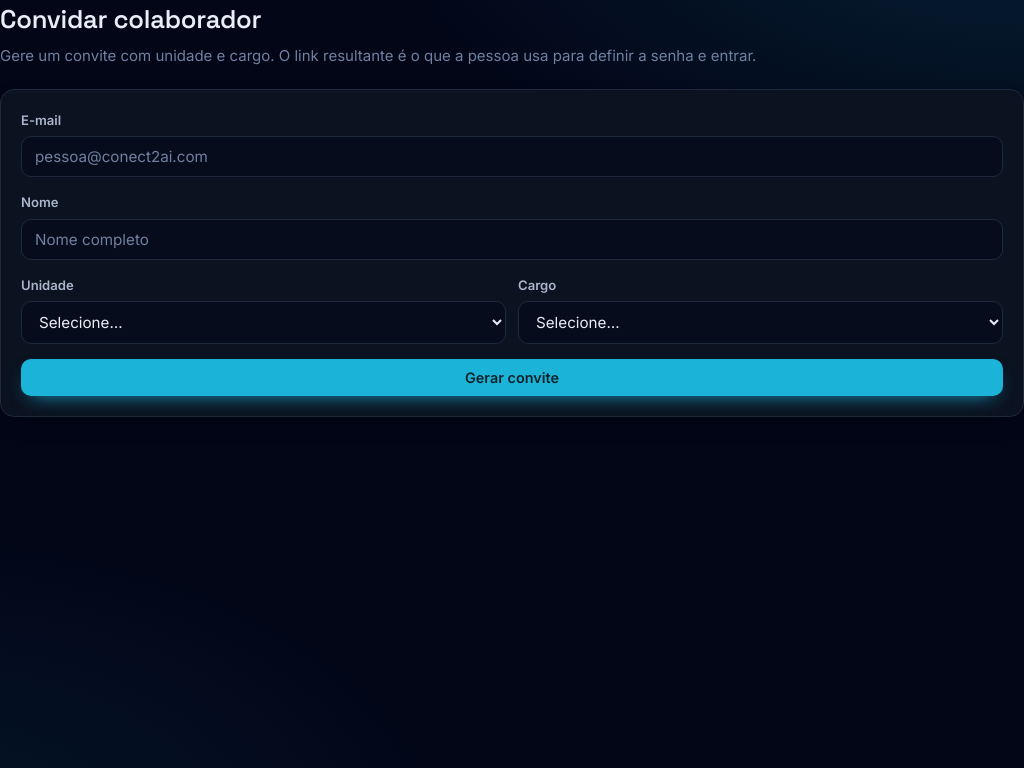
Test: PaginaConvidar › envia POST /auth/convites e exibe o link de aceite gerado
This screenshot has width=1024, height=768.
Type "nova@conect2ai.com" into the field labelled "E-mail" at point(512, 157), box [21,136,1003,177]
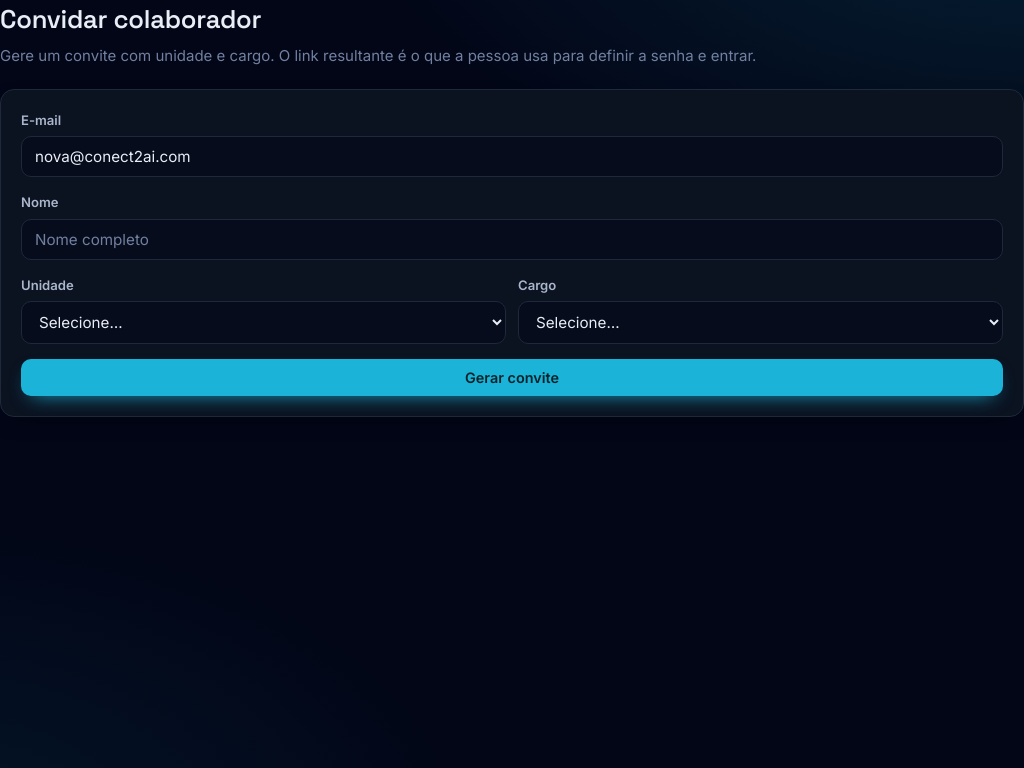
Type "Nova Pessoa" into the field labelled "Nome" at point(512, 239), box [21,219,1003,260]
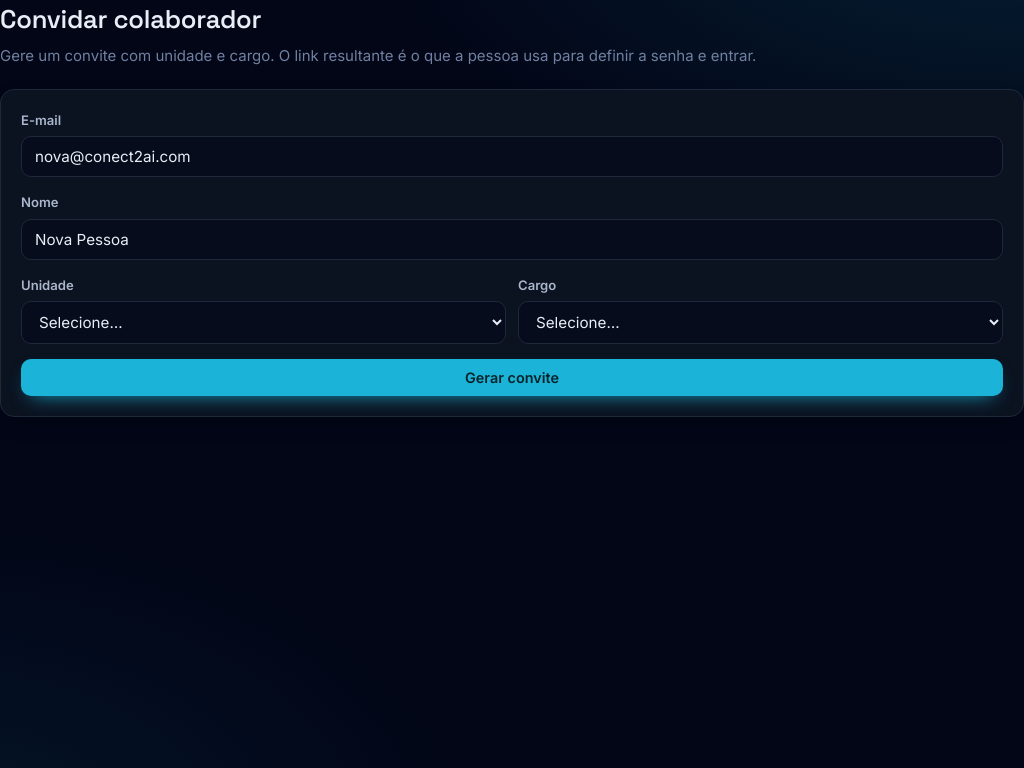
Select "Marketing" in the dropdown labelled "Unidade" at point(264, 322), box [21,301,506,344]
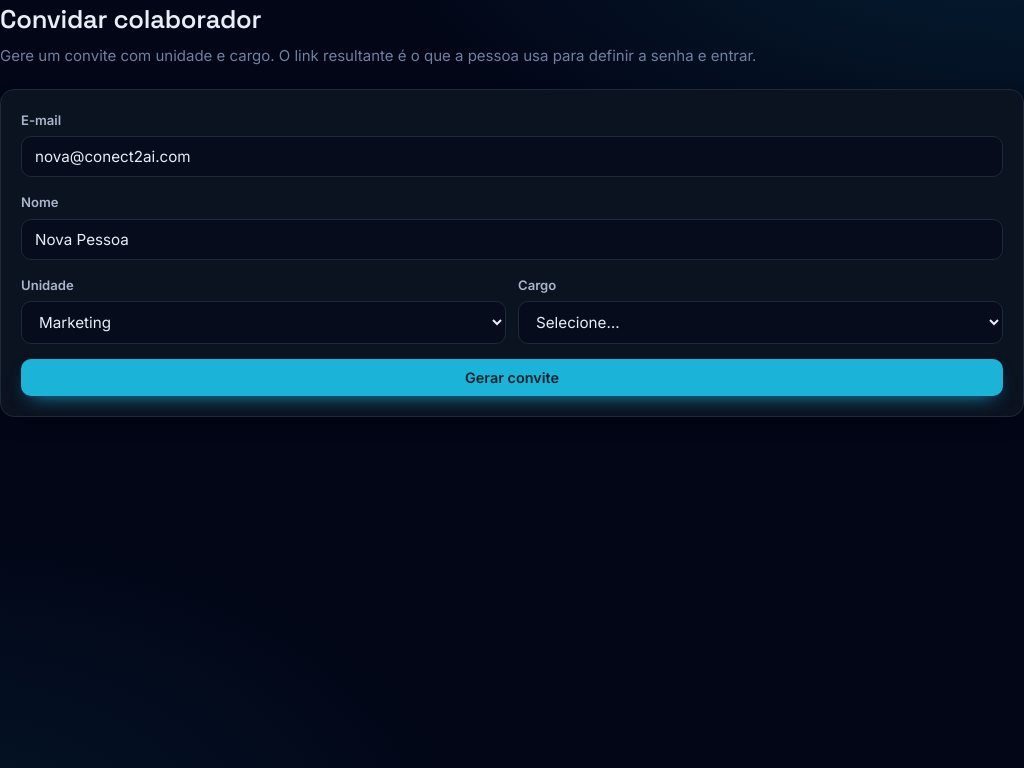
Select "Aluno" in the dropdown labelled "Cargo" at point(760, 322), box [518,301,1003,344]
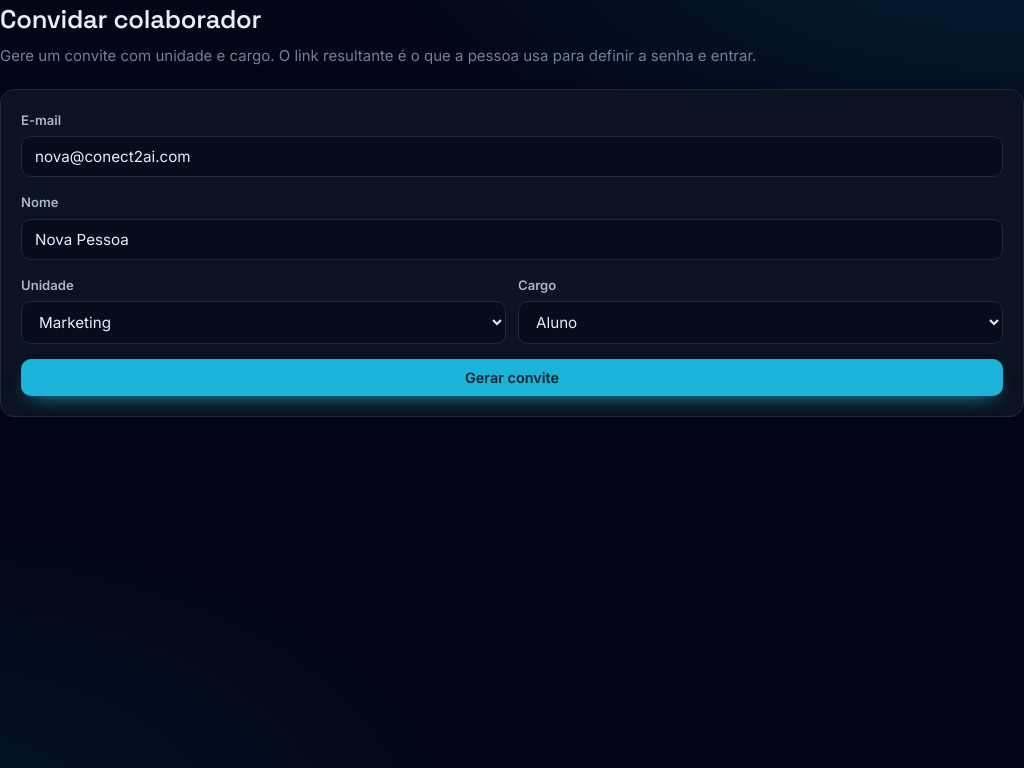
Click the button "Gerar convite" at point(512, 377), box [21,359,1003,396]
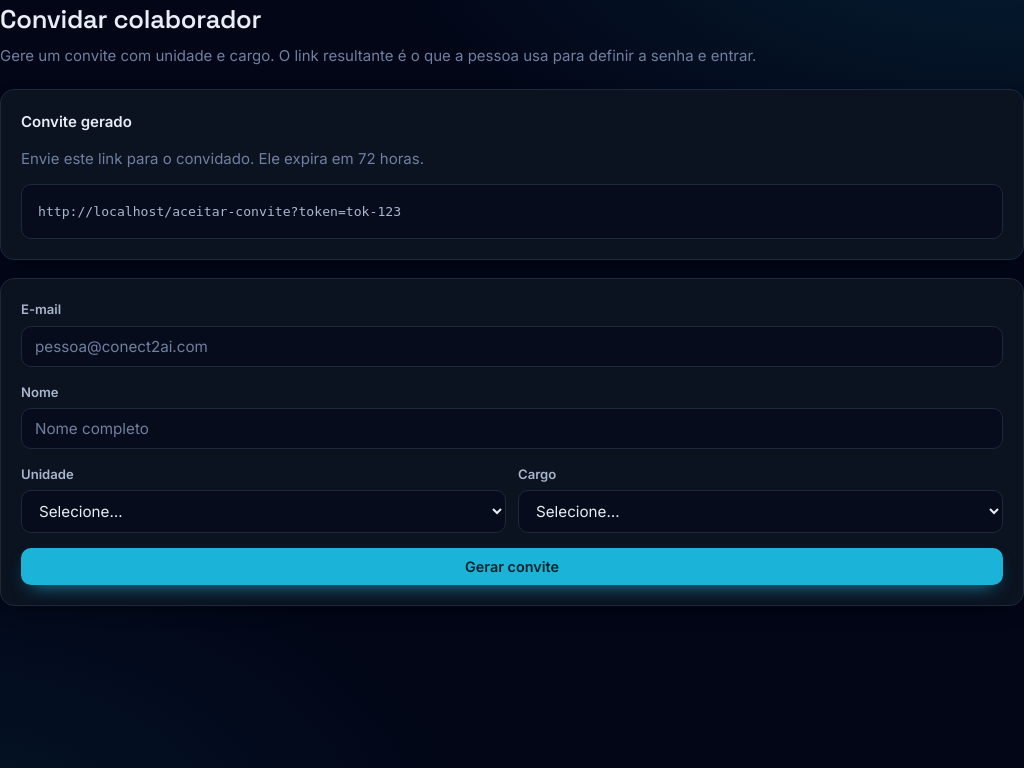
Check: the text "http://localhost/aceitar-convite?token=tok-123" is shown, box [21,184,1003,239]
